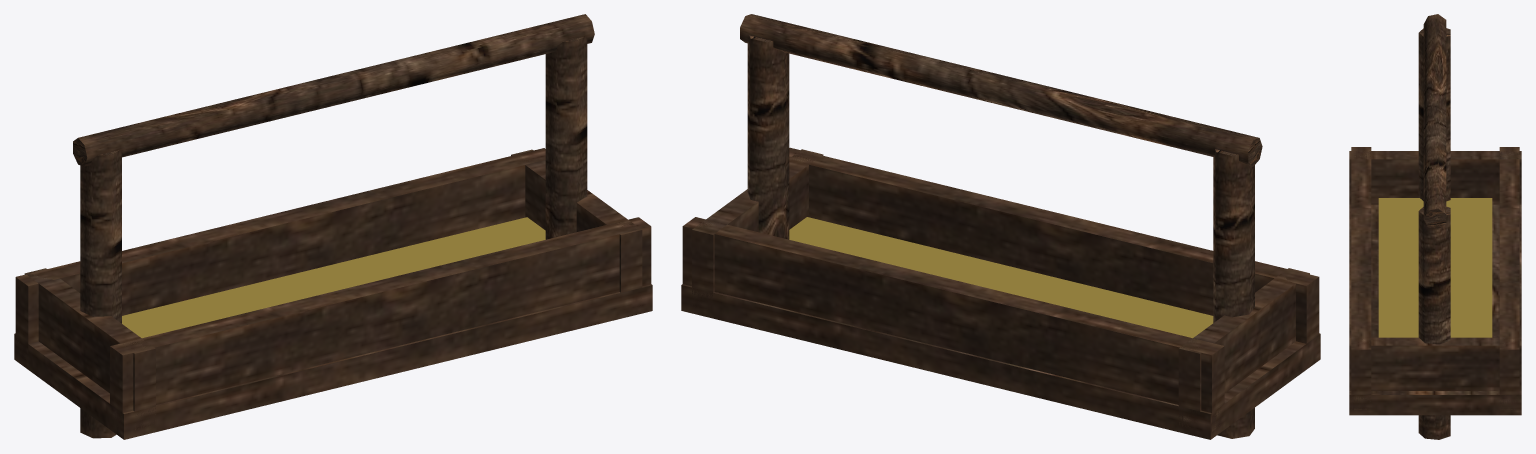
The model's file is manger.glb.
3 views of the same model, side by side, from view 1: azimuth 30°, elevation 25°; view 2: azimuth 150°, elevation 25°; view 3: azimuth 270°, elevation 25° (orthographic). The views are drawn at different scales.
Parts seen in each view (by area): view 1: part_0, part_1; view 2: part_0, part_1; view 3: part_0, part_1.
Part boxes in pixels (bbox=[...]): part_0: bbox=[14, 14, 652, 439]; part_1: bbox=[122, 217, 545, 338]; part_0: bbox=[681, 14, 1320, 439]; part_1: bbox=[789, 217, 1213, 338]; part_0: bbox=[1349, 14, 1521, 439]; part_1: bbox=[1378, 198, 1492, 337].
Bounding box in the file's own units: 1.37 × 0.7331 × 0.4932.
Materials: 2 (1 with a texture image).
